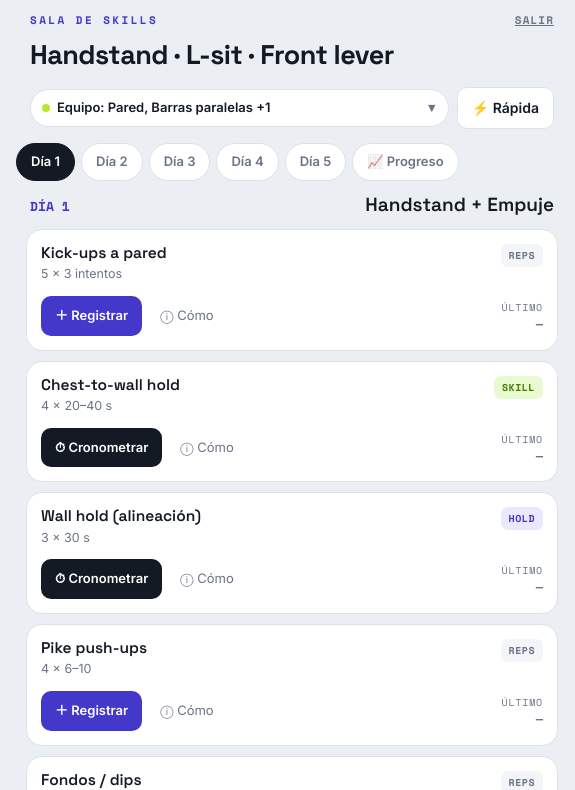
Test: App (logged in) › renders day 1 exercises by default and switches to progress
Expected: the text "Kick-ups a pared" is shown, [41, 244, 167, 263]
Click the tab "📈 Progreso". click: (405,162)
box: [352, 143, 459, 180]
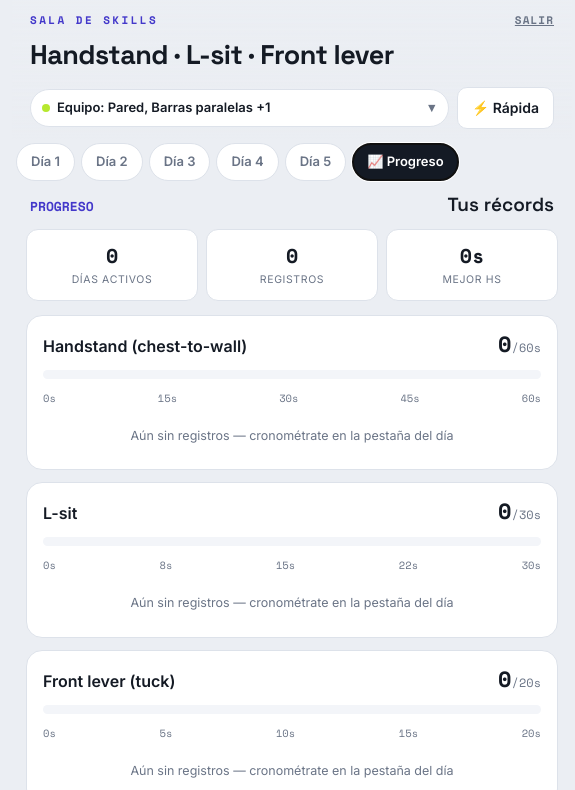
Now the text "PROGRESO" is shown, box [30, 196, 94, 216]
